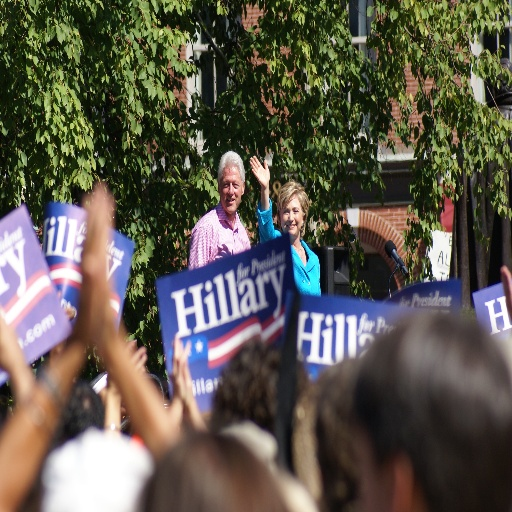hand: (75, 176, 101, 339), (92, 196, 114, 338), (108, 337, 147, 397), (47, 288, 77, 355), (172, 334, 191, 405), (175, 336, 193, 409), (0, 311, 19, 373), (248, 151, 271, 191), (499, 264, 511, 322)
